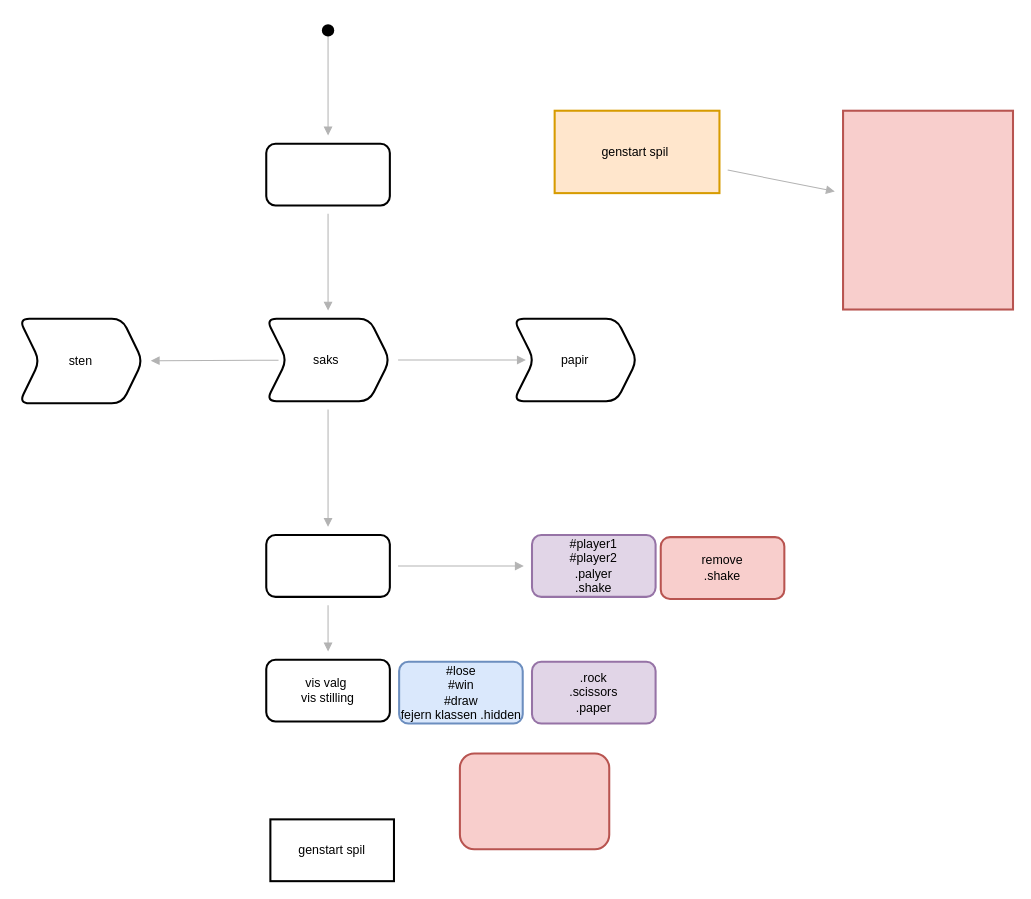
The diagram is 1031 pixels wide and 899 high, and some of its shapes have lost their labels. The centre of each missing label's shape, as x and y in pixels:
game 1: pixel 327 174
remove .rock .sicissors .paper .hiden dispaly none: pixel 534 801
shake hand .shake på clas player eller #player: pixel 327 565
